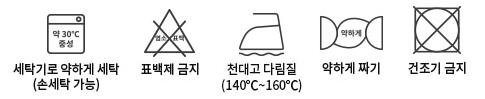KR_gentle_wring: (314, 9, 389, 59)
KR_no_chlorine_bleach: (141, 7, 201, 61)
KR_no_tumble_dry: (409, 3, 465, 58)
KR_wash_warm_30_neutral: (40, 10, 90, 58)
